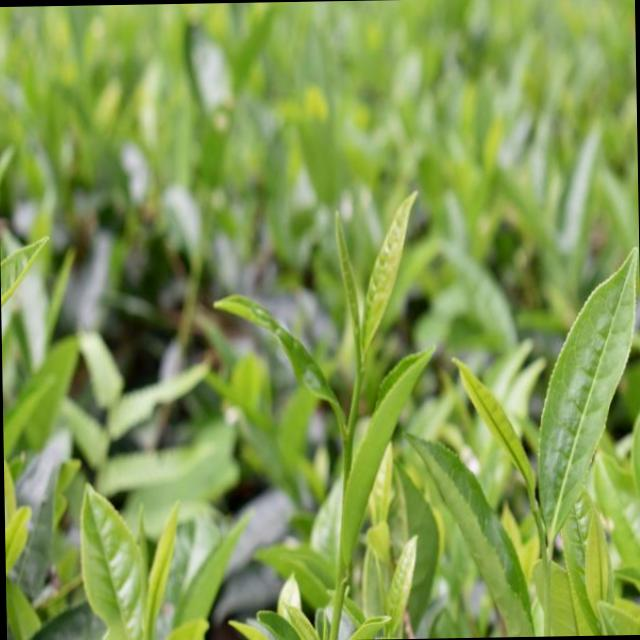Stem: (355, 367, 361, 377)
